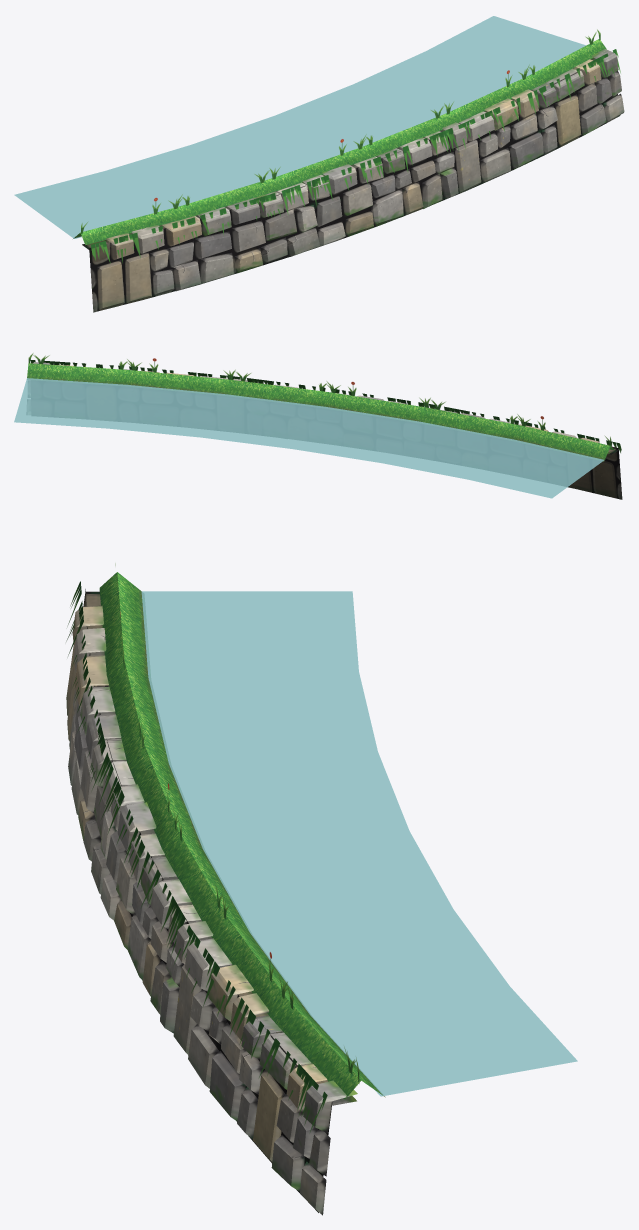
The model's file is terrace_convex_flooded_mid_plain.glb.
The picture shows the model from 3 angles, top to bottom: view 1: azimuth 30°, elevation 25°; view 2: azimuth 150°, elevation 25°; view 3: azimuth 270°, elevation 25°; orthographic projection. The views are drawn at different scales.
Visible parts, largest first — view 1: terrace_convex_flooded_mid_plain_wall, terrace_convex_flooded_mid_plain_water, terrace_convex_flooded_mid_plain_dike, terrace_convex_flooded_mid_plain_cards; view 2: terrace_convex_flooded_mid_plain_water, terrace_convex_flooded_mid_plain_dike, terrace_convex_flooded_mid_plain_wall, terrace_convex_flooded_mid_plain_cards; view 3: terrace_convex_flooded_mid_plain_water, terrace_convex_flooded_mid_plain_wall, terrace_convex_flooded_mid_plain_dike, terrace_convex_flooded_mid_plain_cards.
Boxes of the visible parts, left/top/right/bottom form: terrace_convex_flooded_mid_plain_wall: left=82, top=49, right=624, bottom=312; terrace_convex_flooded_mid_plain_water: left=14, top=16, right=586, bottom=238; terrace_convex_flooded_mid_plain_dike: left=73, top=39, right=606, bottom=245; terrace_convex_flooded_mid_plain_cards: left=81, top=29, right=620, bottom=263; terrace_convex_flooded_mid_plain_water: left=14, top=378, right=604, bottom=498; terrace_convex_flooded_mid_plain_dike: left=27, top=363, right=614, bottom=461; terrace_convex_flooded_mid_plain_wall: left=28, top=362, right=622, bottom=499; terrace_convex_flooded_mid_plain_cards: left=28, top=353, right=621, bottom=452; terrace_convex_flooded_mid_plain_water: left=141, top=591, right=577, bottom=1096; terrace_convex_flooded_mid_plain_wall: left=66, top=589, right=357, bottom=1215; terrace_convex_flooded_mid_plain_dike: left=99, top=572, right=385, bottom=1099; terrace_convex_flooded_mid_plain_cards: left=66, top=563, right=359, bottom=1132.
Bounding box in the file's own units: 11.77 × 1.79 × 4.95.
Materials: 4 (3 with a texture image).
